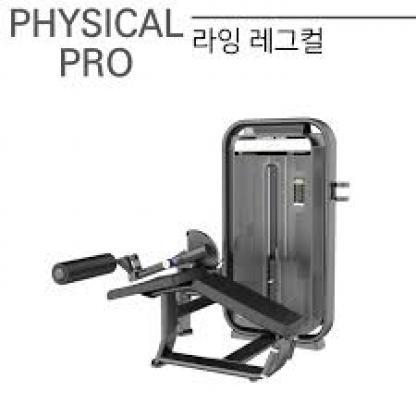reg curl machine: (50, 114, 355, 386)
